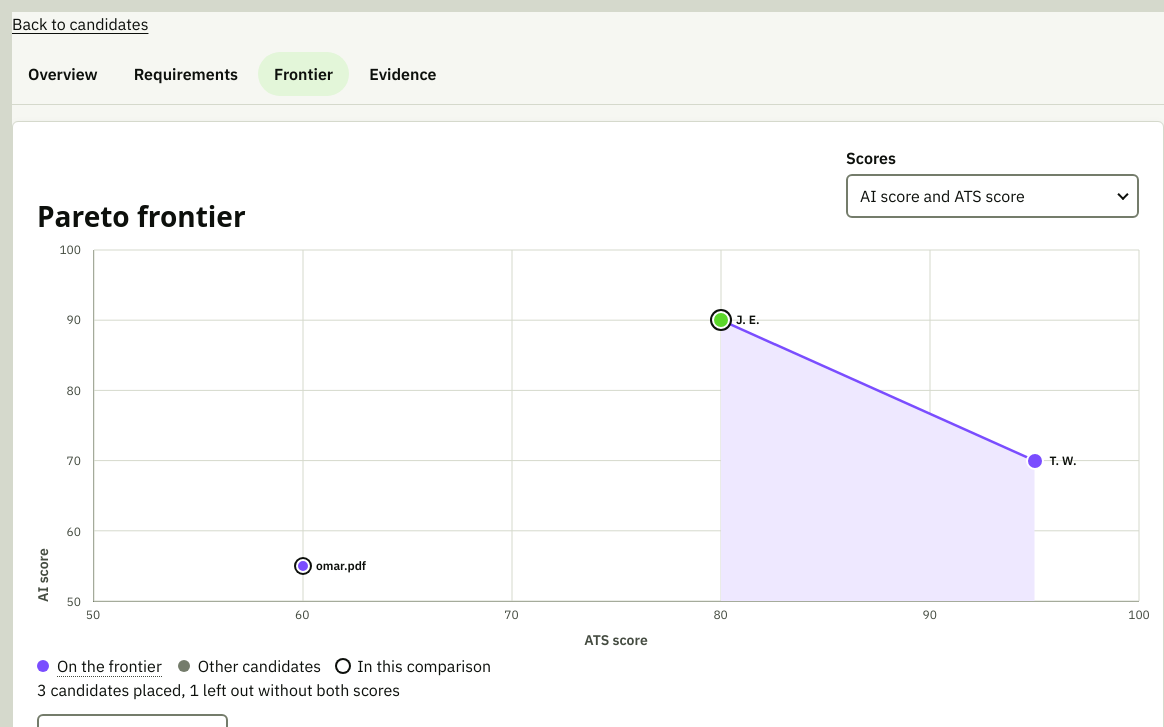
Test: pareto frontier › says on hover who beats a candidate on both scores
The width and height of the screenshot is (1164, 727).
Hover over the link with aria-label "omar.pdf, AI score 55".
mouse_move(303, 566)  # box [296, 559, 310, 573]
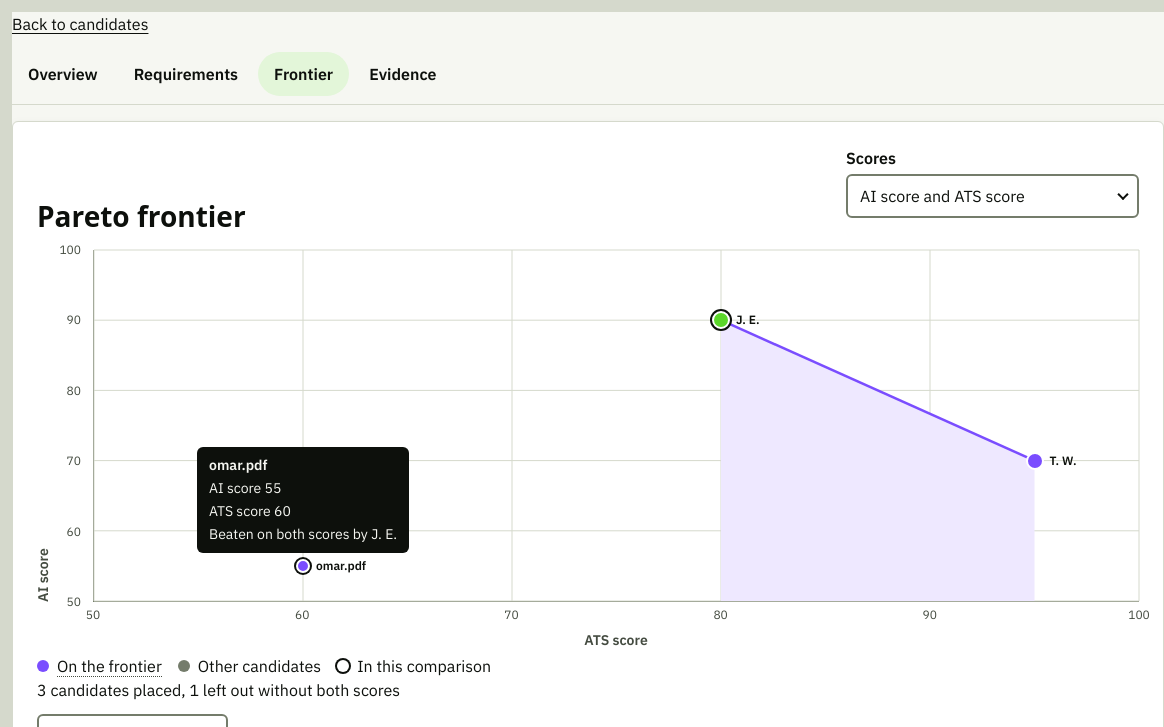
Now the tooltip shows "Beaten on both scores by J. E.", box [209, 525, 397, 543]
Now the tooltip shows "ATS score 60", box [209, 502, 291, 520]
